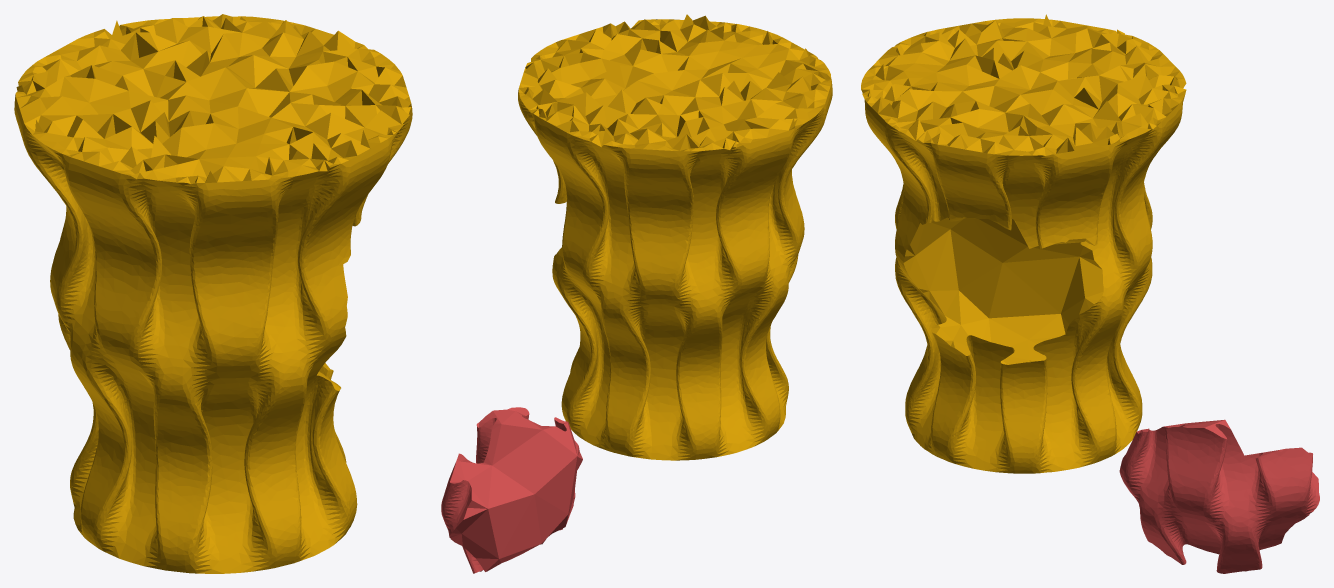
Rendered from fractured_75_2pcs_transformed.glb.
The picture shows the model from 3 angles, left to right: view 1: azimuth 30°, elevation 25°; view 2: azimuth 150°, elevation 25°; view 3: azimuth 270°, elevation 25°; orthographic projection. The views are drawn at different scales.
Parts seen in each view (by area): view 1: piece_0.obj; view 2: piece_0.obj, piece_1.obj; view 3: piece_0.obj, piece_1.obj.
Boxes of the visible parts, bbox=[...] form: piece_0.obj: bbox=[14, 14, 412, 573]; piece_0.obj: bbox=[518, 14, 832, 460]; piece_1.obj: bbox=[441, 407, 582, 573]; piece_0.obj: bbox=[861, 14, 1186, 473]; piece_1.obj: bbox=[1119, 419, 1319, 573].
Size of the model in its own units: 0.842 by 1.3 by 1.19.
